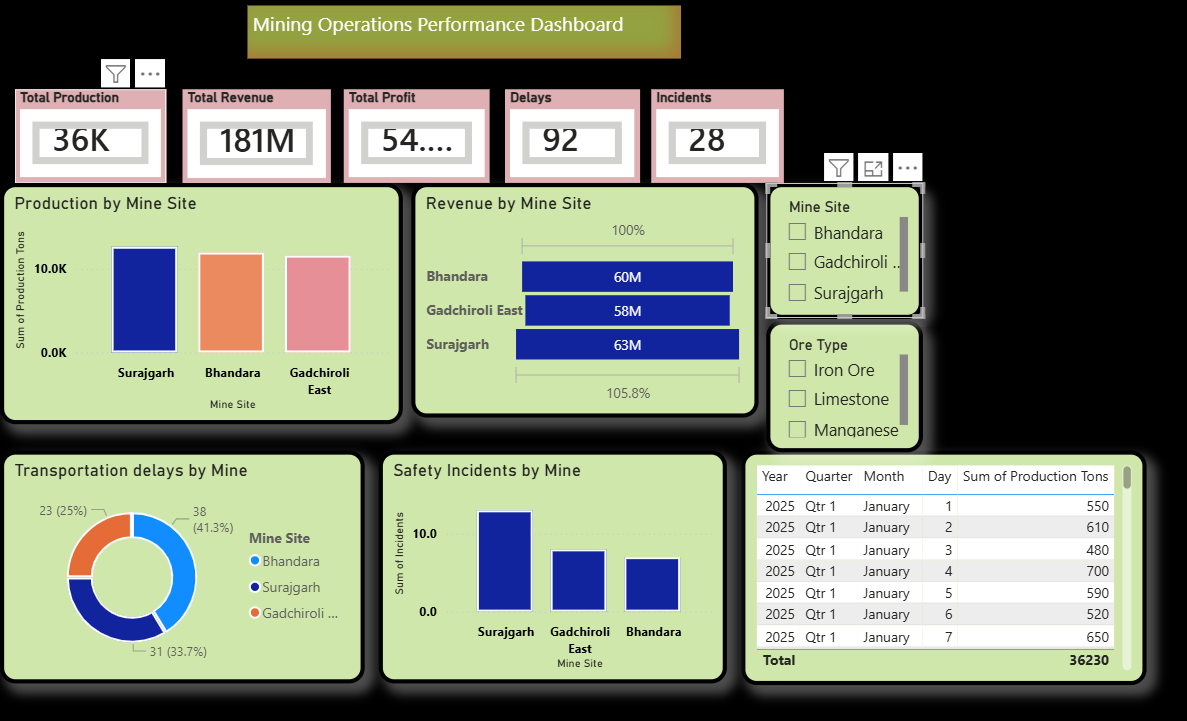

The dashboard page shown, as its layout file describes it:
{"tool":"powerbi","page":{"name":"Page 1","canvas":[1600,900],"ordinal":0},"visuals":[{"type":"cardVisual","title":"Total Production","fields":{"Data":["Sum(Sheet1.Production Tons)"]},"box":[14,88,146,90],"z":0},{"type":"cardVisual","title":"Total Revenue","fields":{"Data":["Sum(Sheet1.Revenue)"]},"box":[176,88,143,91],"z":1000},{"type":"cardVisual","title":"Delays","fields":{"Data":["Sum(Sheet1.Delays)"]},"box":[488,88,130,90],"z":2000},{"type":"cardVisual","title":"Incidents","fields":{"Data":["Sum(Sheet1.Incidents)"]},"box":[629,88,128,90],"z":3000},{"type":"cardVisual","title":"Total Profit","fields":{"Data":["Sum(Sheet1.Profit)"]},"box":[332,88,141,90],"z":4000},{"type":"columnChart","title":"Production by Mine Site","fields":{"Category":["Sheet1.Mine Site","Sheet1.Date.Variation.Date Hierarchy.Year","Sheet1.Date.Variation.Date Hierarchy.Quarter","Sheet1.Date.Variation.Date Hierarchy.Month","Sheet1.Date.Variation.Date Hierarchy.Day"],"Y":["Sum(Sheet1.Production Tons)"]},"box":[0,178,389,233],"z":5000},{"type":"funnel","title":"Revenue by Mine Site","fields":{"Category":["Sheet1.Mine Site","Sheet1.Date.Variation.Date Hierarchy.Year","Sheet1.Date.Variation.Date Hierarchy.Quarter","Sheet1.Date.Variation.Date Hierarchy.Month","Sheet1.Date.Variation.Date Hierarchy.Day"],"Y":["Sum(Sheet1.Revenue)"]},"box":[397,178,335,226],"z":6000},{"type":"tableEx","title":"Production Trend","fields":{"Values":["Sheet1.Date.Variation.Date Hierarchy.Year","Sheet1.Date.Variation.Date Hierarchy.Quarter","Sheet1.Date.Variation.Date Hierarchy.Month","Sheet1.Date.Variation.Date Hierarchy.Day","Sum(Sheet1.Production Tons)"]},"box":[715,437,391,226],"z":7000},{"type":"donutChart","title":"Transportation delays by Mine","fields":{"Category":["Sheet1.Mine Site"],"Y":["Sum(Sheet1.Delays)"]},"box":[0,437,352,225],"z":8000},{"type":"columnChart","title":"Safety Incidents by Mine","fields":{"Category":["Sheet1.Mine Site"],"Y":["Sum(Sheet1.Incidents)"]},"box":[365,437,336,225],"z":9000},{"type":"slicer","fields":{"Values":["Sheet1.Mine Site"]},"box":[740,178,151,131],"z":10000},{"type":"slicer","fields":{"Values":["Sheet1.Ore Type"]},"box":[740,311,151,127],"z":11000},{"type":"textbox","box":[239,7,418,51],"z":12000}]}

Visuals, with their boxes on the page's 1600x900 design canvas (x1, y1, x2, y2). These are canvas units, not pixel positions in the 1187x721 screenshot, which may show the page scaled, cropped or inside an application window:
"Total Production" cardVisual: left=14, top=88, right=160, bottom=178
"Total Revenue" cardVisual: left=176, top=88, right=319, bottom=179
"Delays" cardVisual: left=488, top=88, right=618, bottom=178
"Incidents" cardVisual: left=629, top=88, right=757, bottom=178
"Total Profit" cardVisual: left=332, top=88, right=473, bottom=178
"Production by Mine Site" columnChart: left=0, top=178, right=389, bottom=411
"Revenue by Mine Site" funnel: left=397, top=178, right=732, bottom=404
"Production Trend" tableEx: left=715, top=437, right=1106, bottom=663
"Transportation delays by Mine" donutChart: left=0, top=437, right=352, bottom=662
"Safety Incidents by Mine" columnChart: left=365, top=437, right=701, bottom=662
slicer - Sheet1.Mine Site: left=740, top=178, right=891, bottom=309
slicer - Sheet1.Ore Type: left=740, top=311, right=891, bottom=438
textbox: left=239, top=7, right=657, bottom=58
